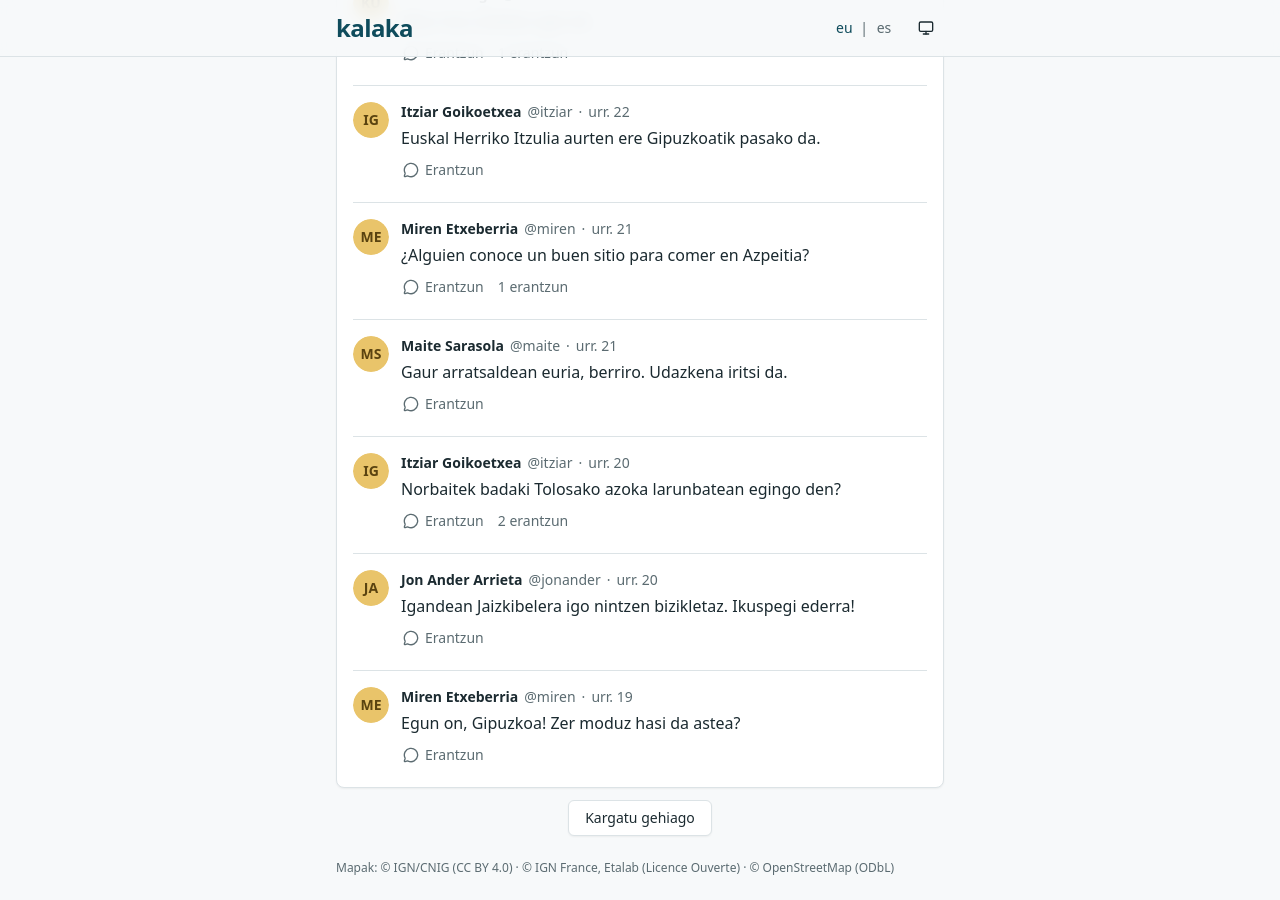
room › lists only the top-level posts, newest first, and loads older ones with the cursor
The width and height of the screenshot is (1280, 900).
(page scrolled)
Click the button "Kargatu gehiago": point(640, 818) [568,800,712,836]
(page scrolled)
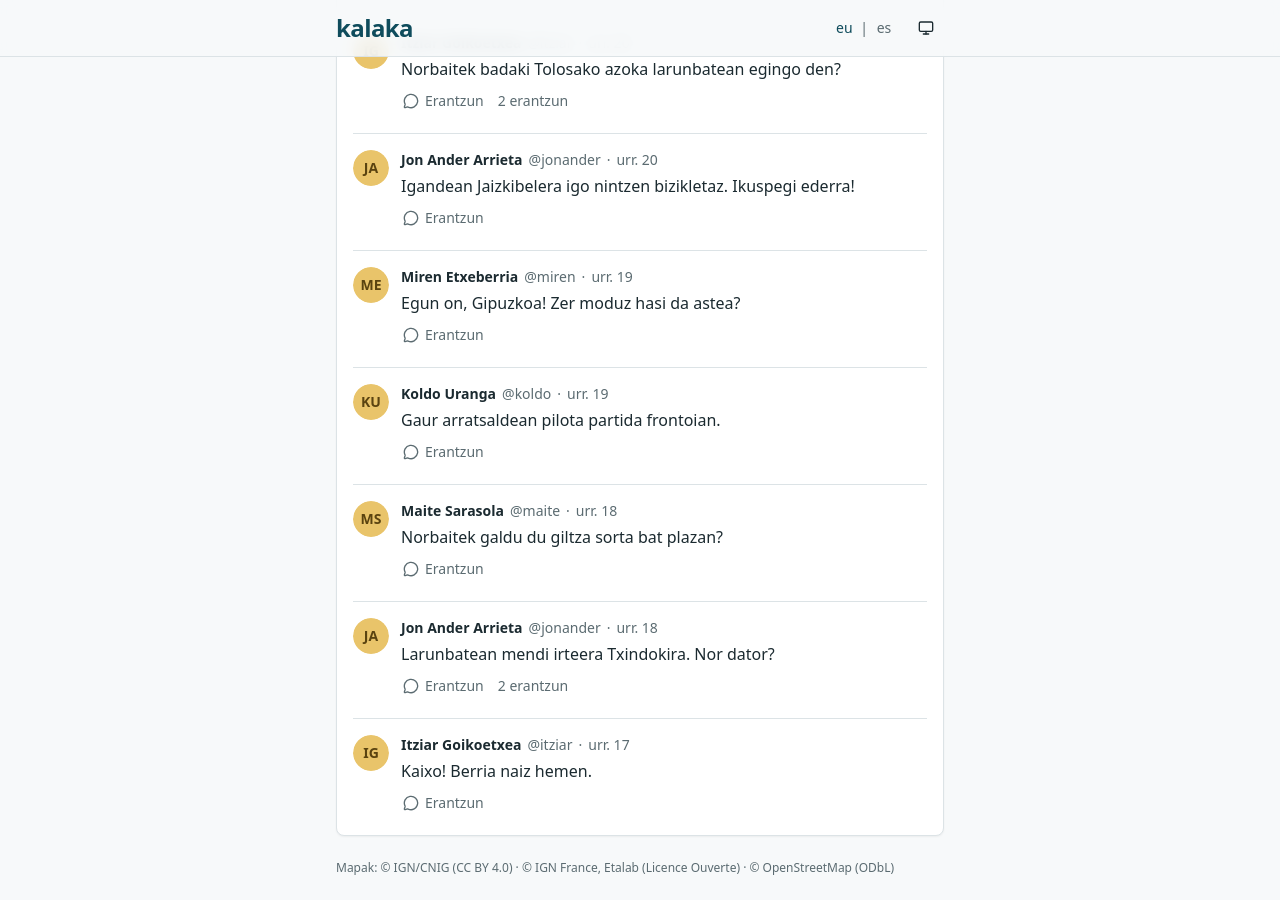
Result: the text "Kaixo! Berria naiz hemen." is shown at [401,760,592,782]
Result: the button "Kargatu gehiago" is gone
